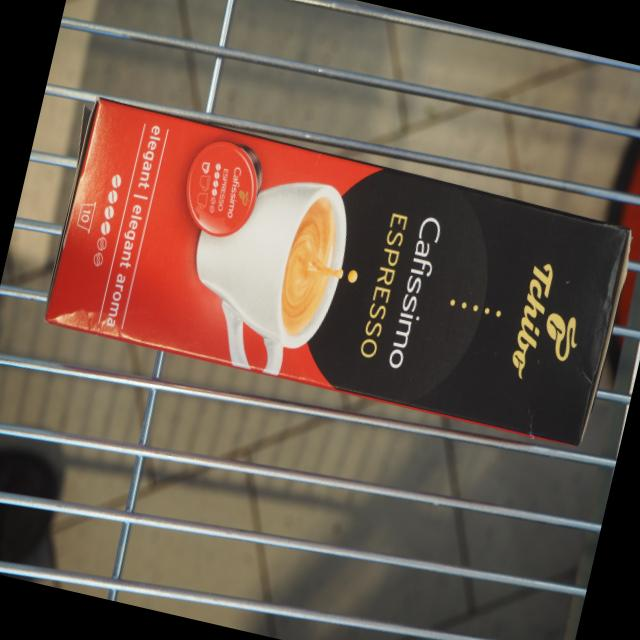Simo Es Elegant: (39, 90, 640, 455)
